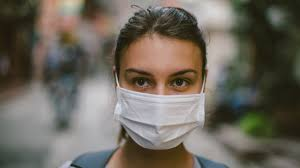surgical: (112, 84, 207, 151)
